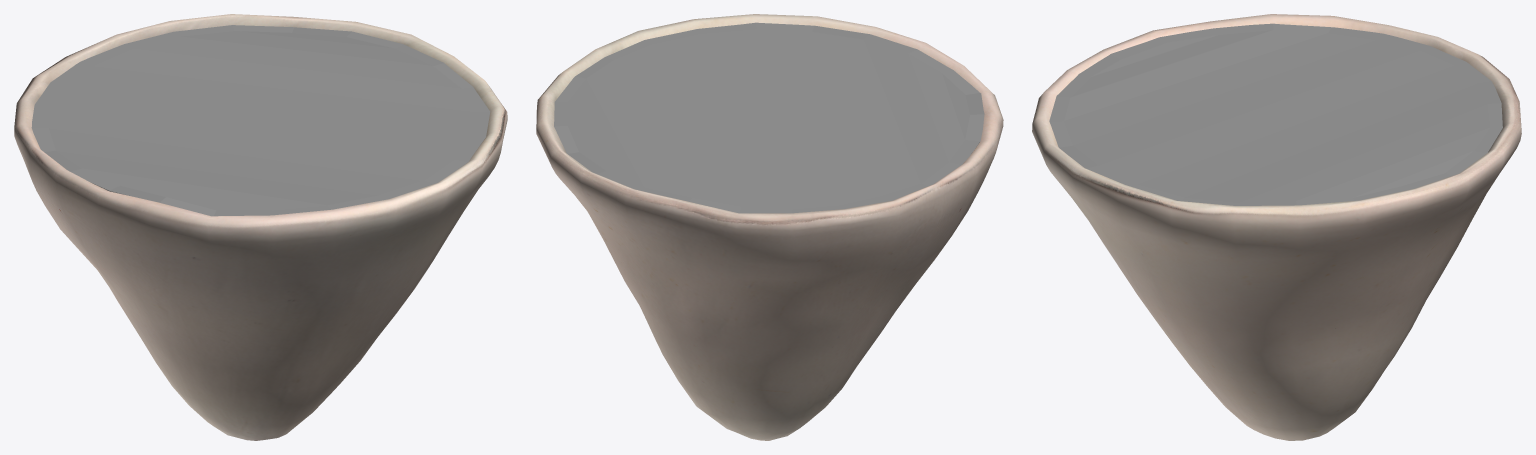
3 renders of one model, left to right at view 1: azimuth 30°, elevation 25°; view 2: azimuth 150°, elevation 25°; view 3: azimuth 270°, elevation 25°, orthographic. The views are drawn at different scales.
Visible parts, largest first — view 1: 101, Object101; view 2: 101, Object101; view 3: 101, Object101.
Part boxes in pixels (box(x1,y1,x2,y2)): 101: box(14, 14, 507, 440); Object101: box(31, 25, 490, 216); 101: box(536, 14, 1003, 440); Object101: box(554, 22, 984, 213); 101: box(1032, 14, 1521, 440); Object101: box(1049, 23, 1502, 205).
Bounding box in the file's own units: 92.11 × 69.22 × 93.38.
Materials: 2 (1 with a texture image).
